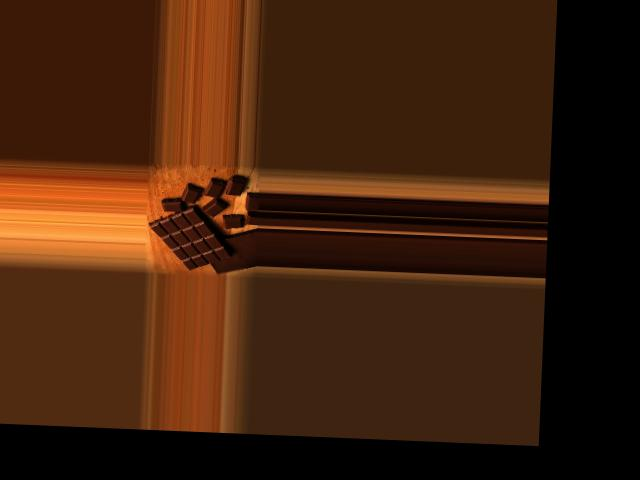chocolate: (149, 200, 234, 272)
